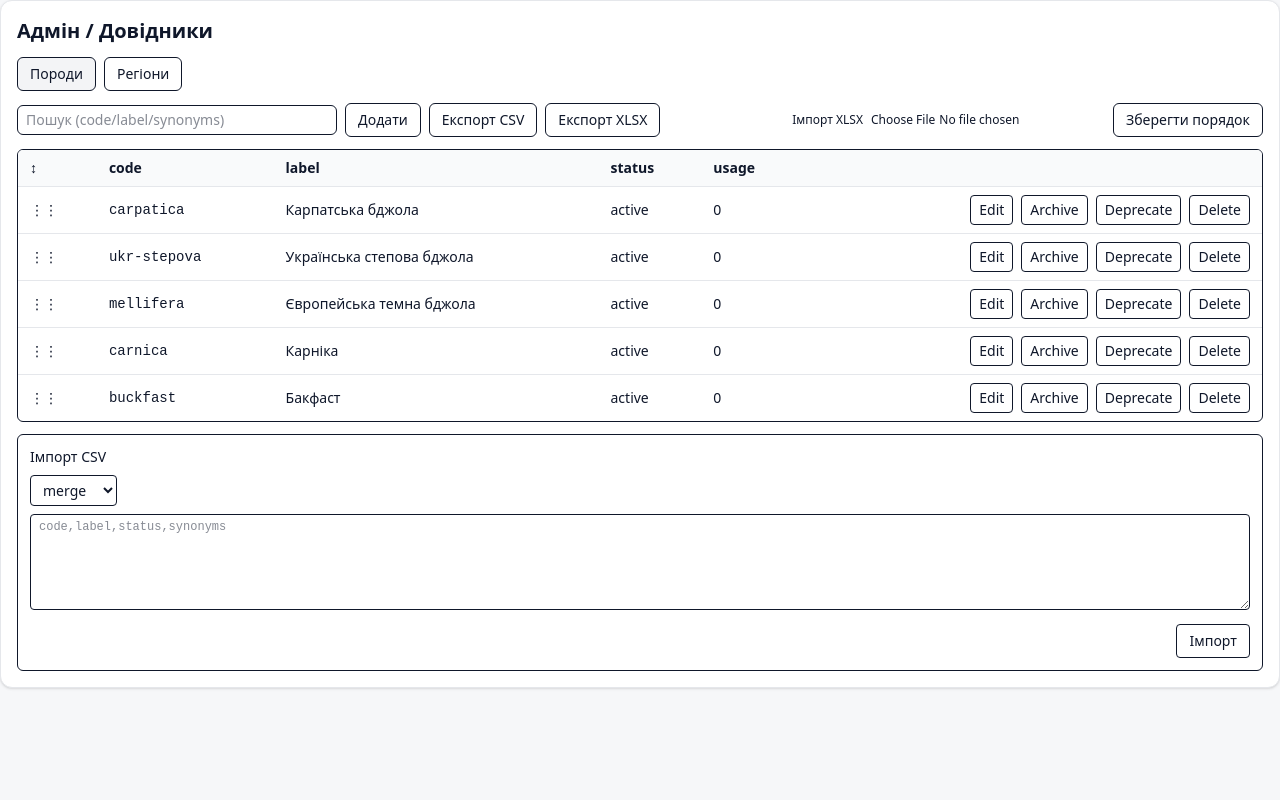
Scenario: AdminDictionaries › renders tabs and can archive and deprecate a breed
// actions on first row
Click the button "Archive" in the row of "carpatica" at (1055, 210), box [1021,195,1088,225]
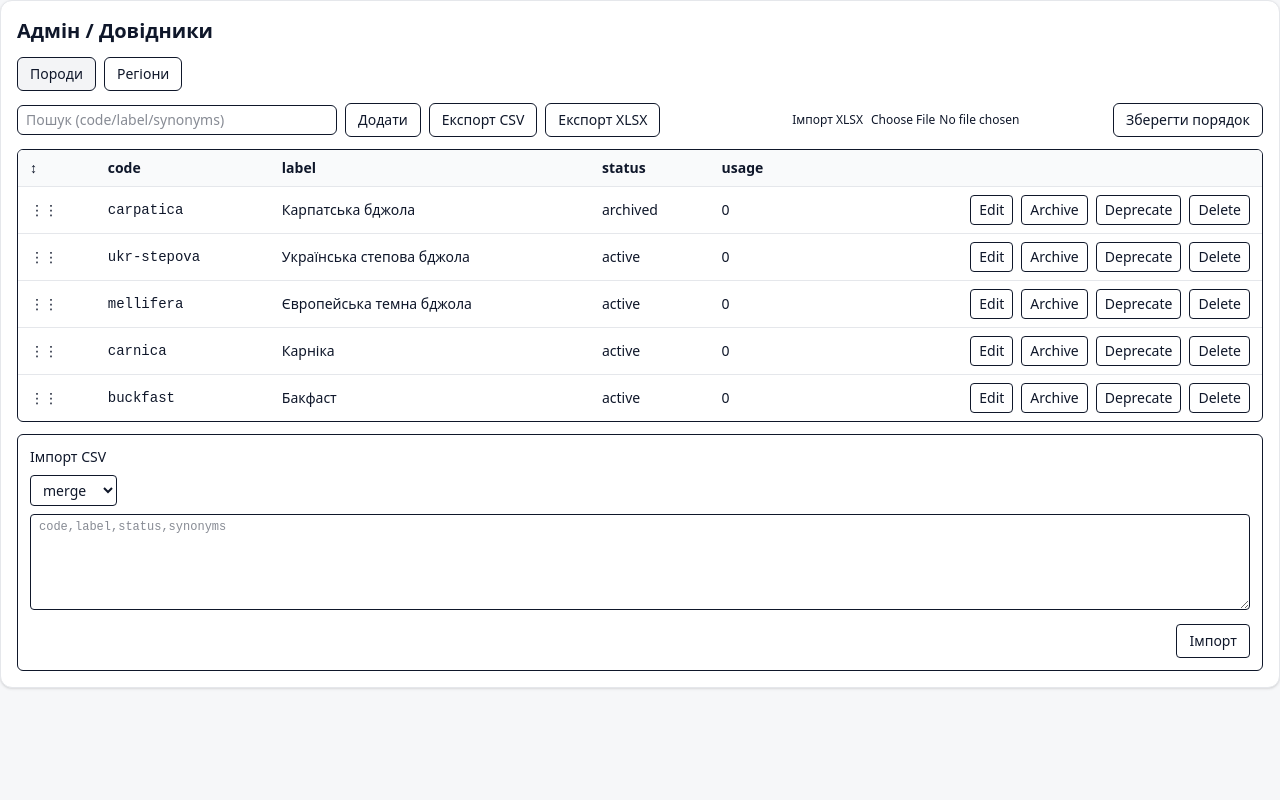
Click the button "Deprecate" in the row of "carpatica" at (1139, 210), box [1096,195,1182,225]
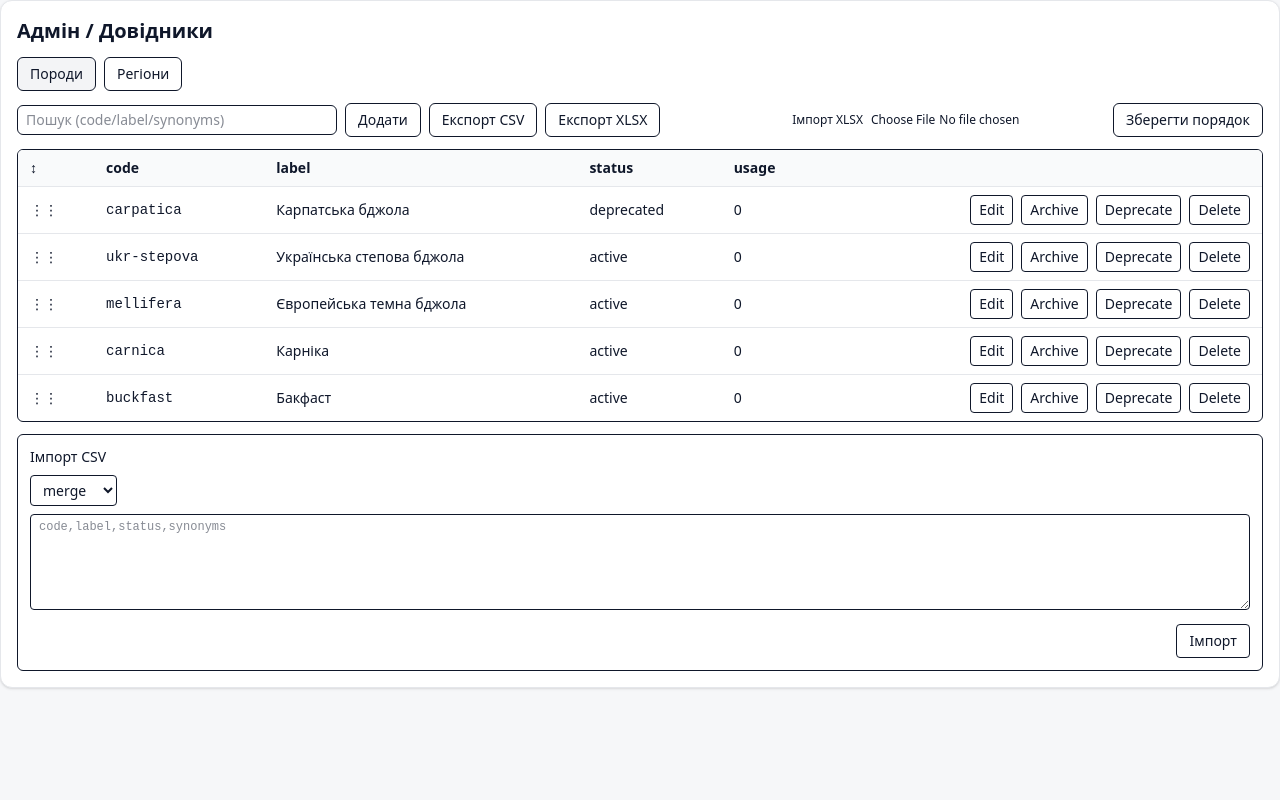
Expected: the text "deprecated" is shown, [577,186,722,234]
